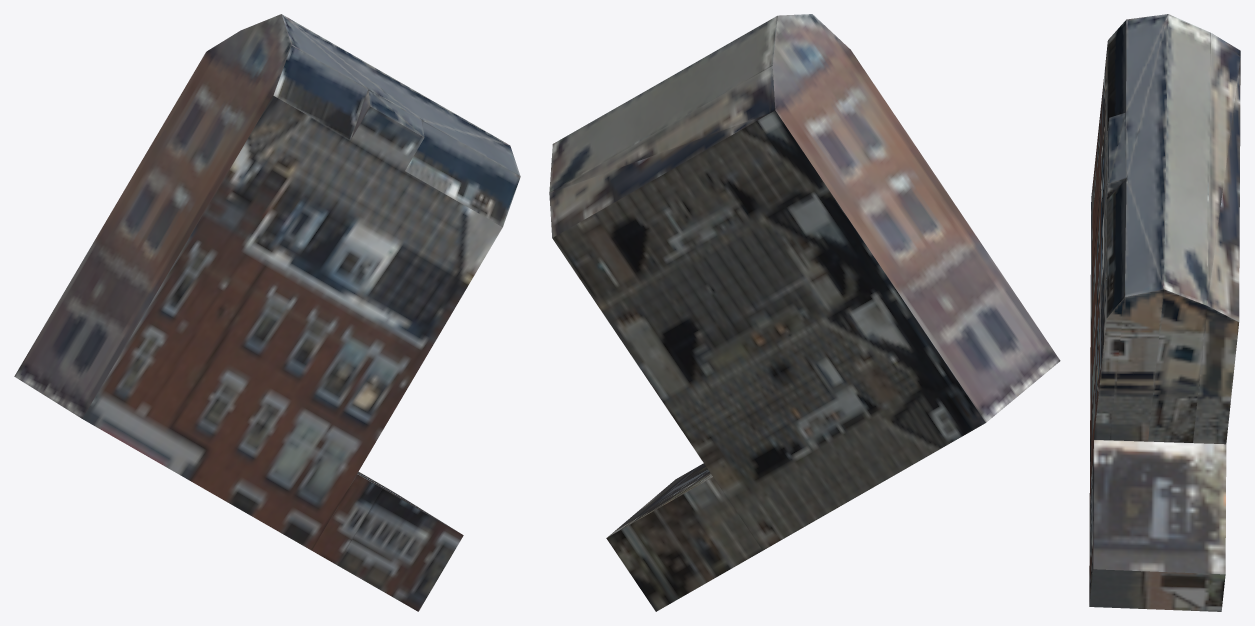
3 renders of one model, left to right at view 1: azimuth 30°, elevation 25°; view 2: azimuth 150°, elevation 25°; view 3: azimuth 270°, elevation 25°, orthographic. The views are drawn at different scales.
Visible parts, largest first — view 1: BAG_0599100000671715 (×5); view 2: BAG_0599100000671715 (×5); view 3: BAG_0599100000671715 (×7).
Part boxes in pixels (x1,y1,x2,y2): BAG_0599100000671715 (×5): [14, 14, 520, 611]; BAG_0599100000671715 (×5): [549, 14, 1060, 611]; BAG_0599100000671715 (×7): [1089, 14, 1240, 611].
Bounding box in the file's own units: 18.74 × 22.85 × 5.64.
Materials: 8 (8 with a texture image).
